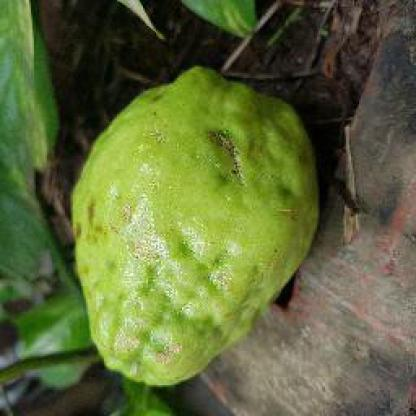guava: (73, 65, 317, 387)
